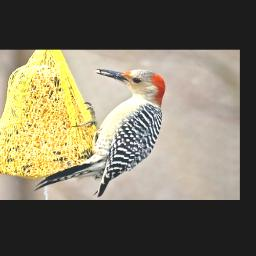Woodpecker: (28, 63, 185, 195)
